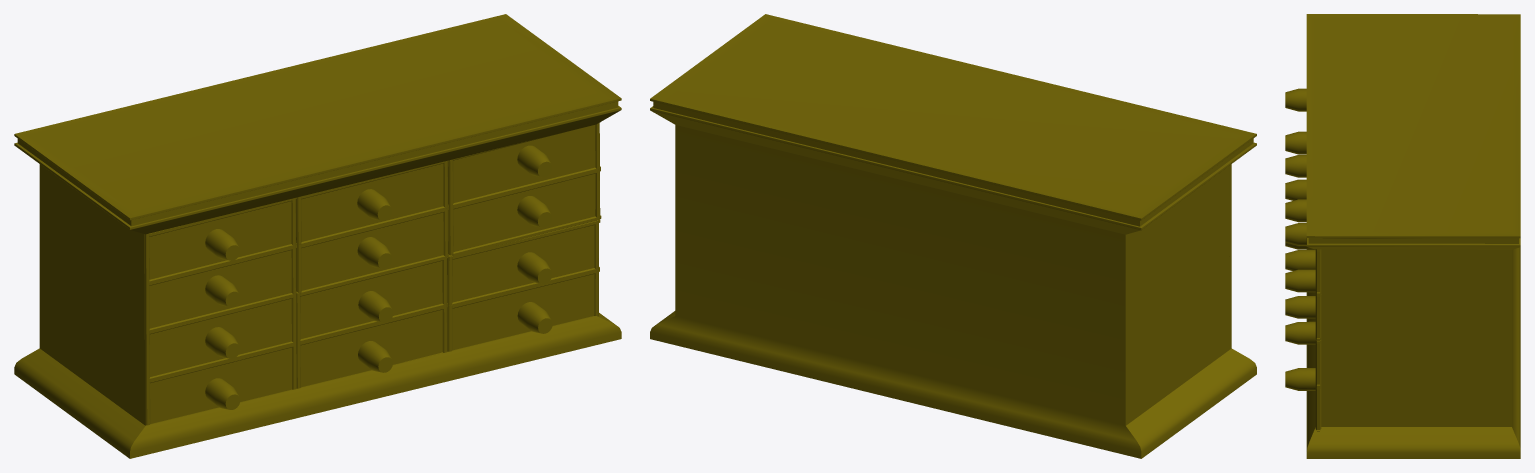
Rendered from DresserDrawer.fbx.
The picture shows the model from 3 angles, left to right: view 1: azimuth 30°, elevation 25°; view 2: azimuth 150°, elevation 25°; view 3: azimuth 270°, elevation 25°; orthographic projection. The views are drawn at different scales.
Visible parts, largest first — view 1: group29_pasted__group28_pasted__pasted__pasted__pasted__past; view 2: group29_pasted__group28_pasted__pasted__pasted__pasted__past; view 3: group29_pasted__group28_pasted__pasted__pasted__pasted__past.
Boxes of the visible parts, x1,y1,x2,y2 form: group29_pasted__group28_pasted__pasted__pasted__pasted__past: [14, 14, 621, 458]; group29_pasted__group28_pasted__pasted__pasted__pasted__past: [650, 14, 1256, 458]; group29_pasted__group28_pasted__pasted__pasted__pasted__past: [1285, 14, 1520, 458].
Size of the model in its own units: 16.21 by 7.58 by 7.27.
